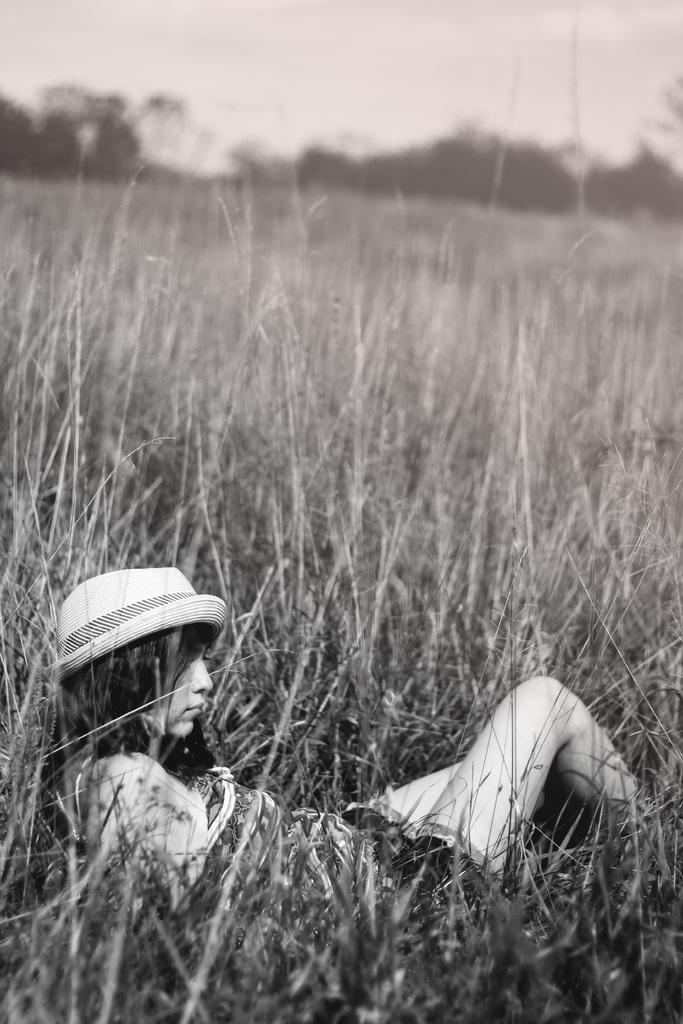Hat: (44, 564, 228, 692)
